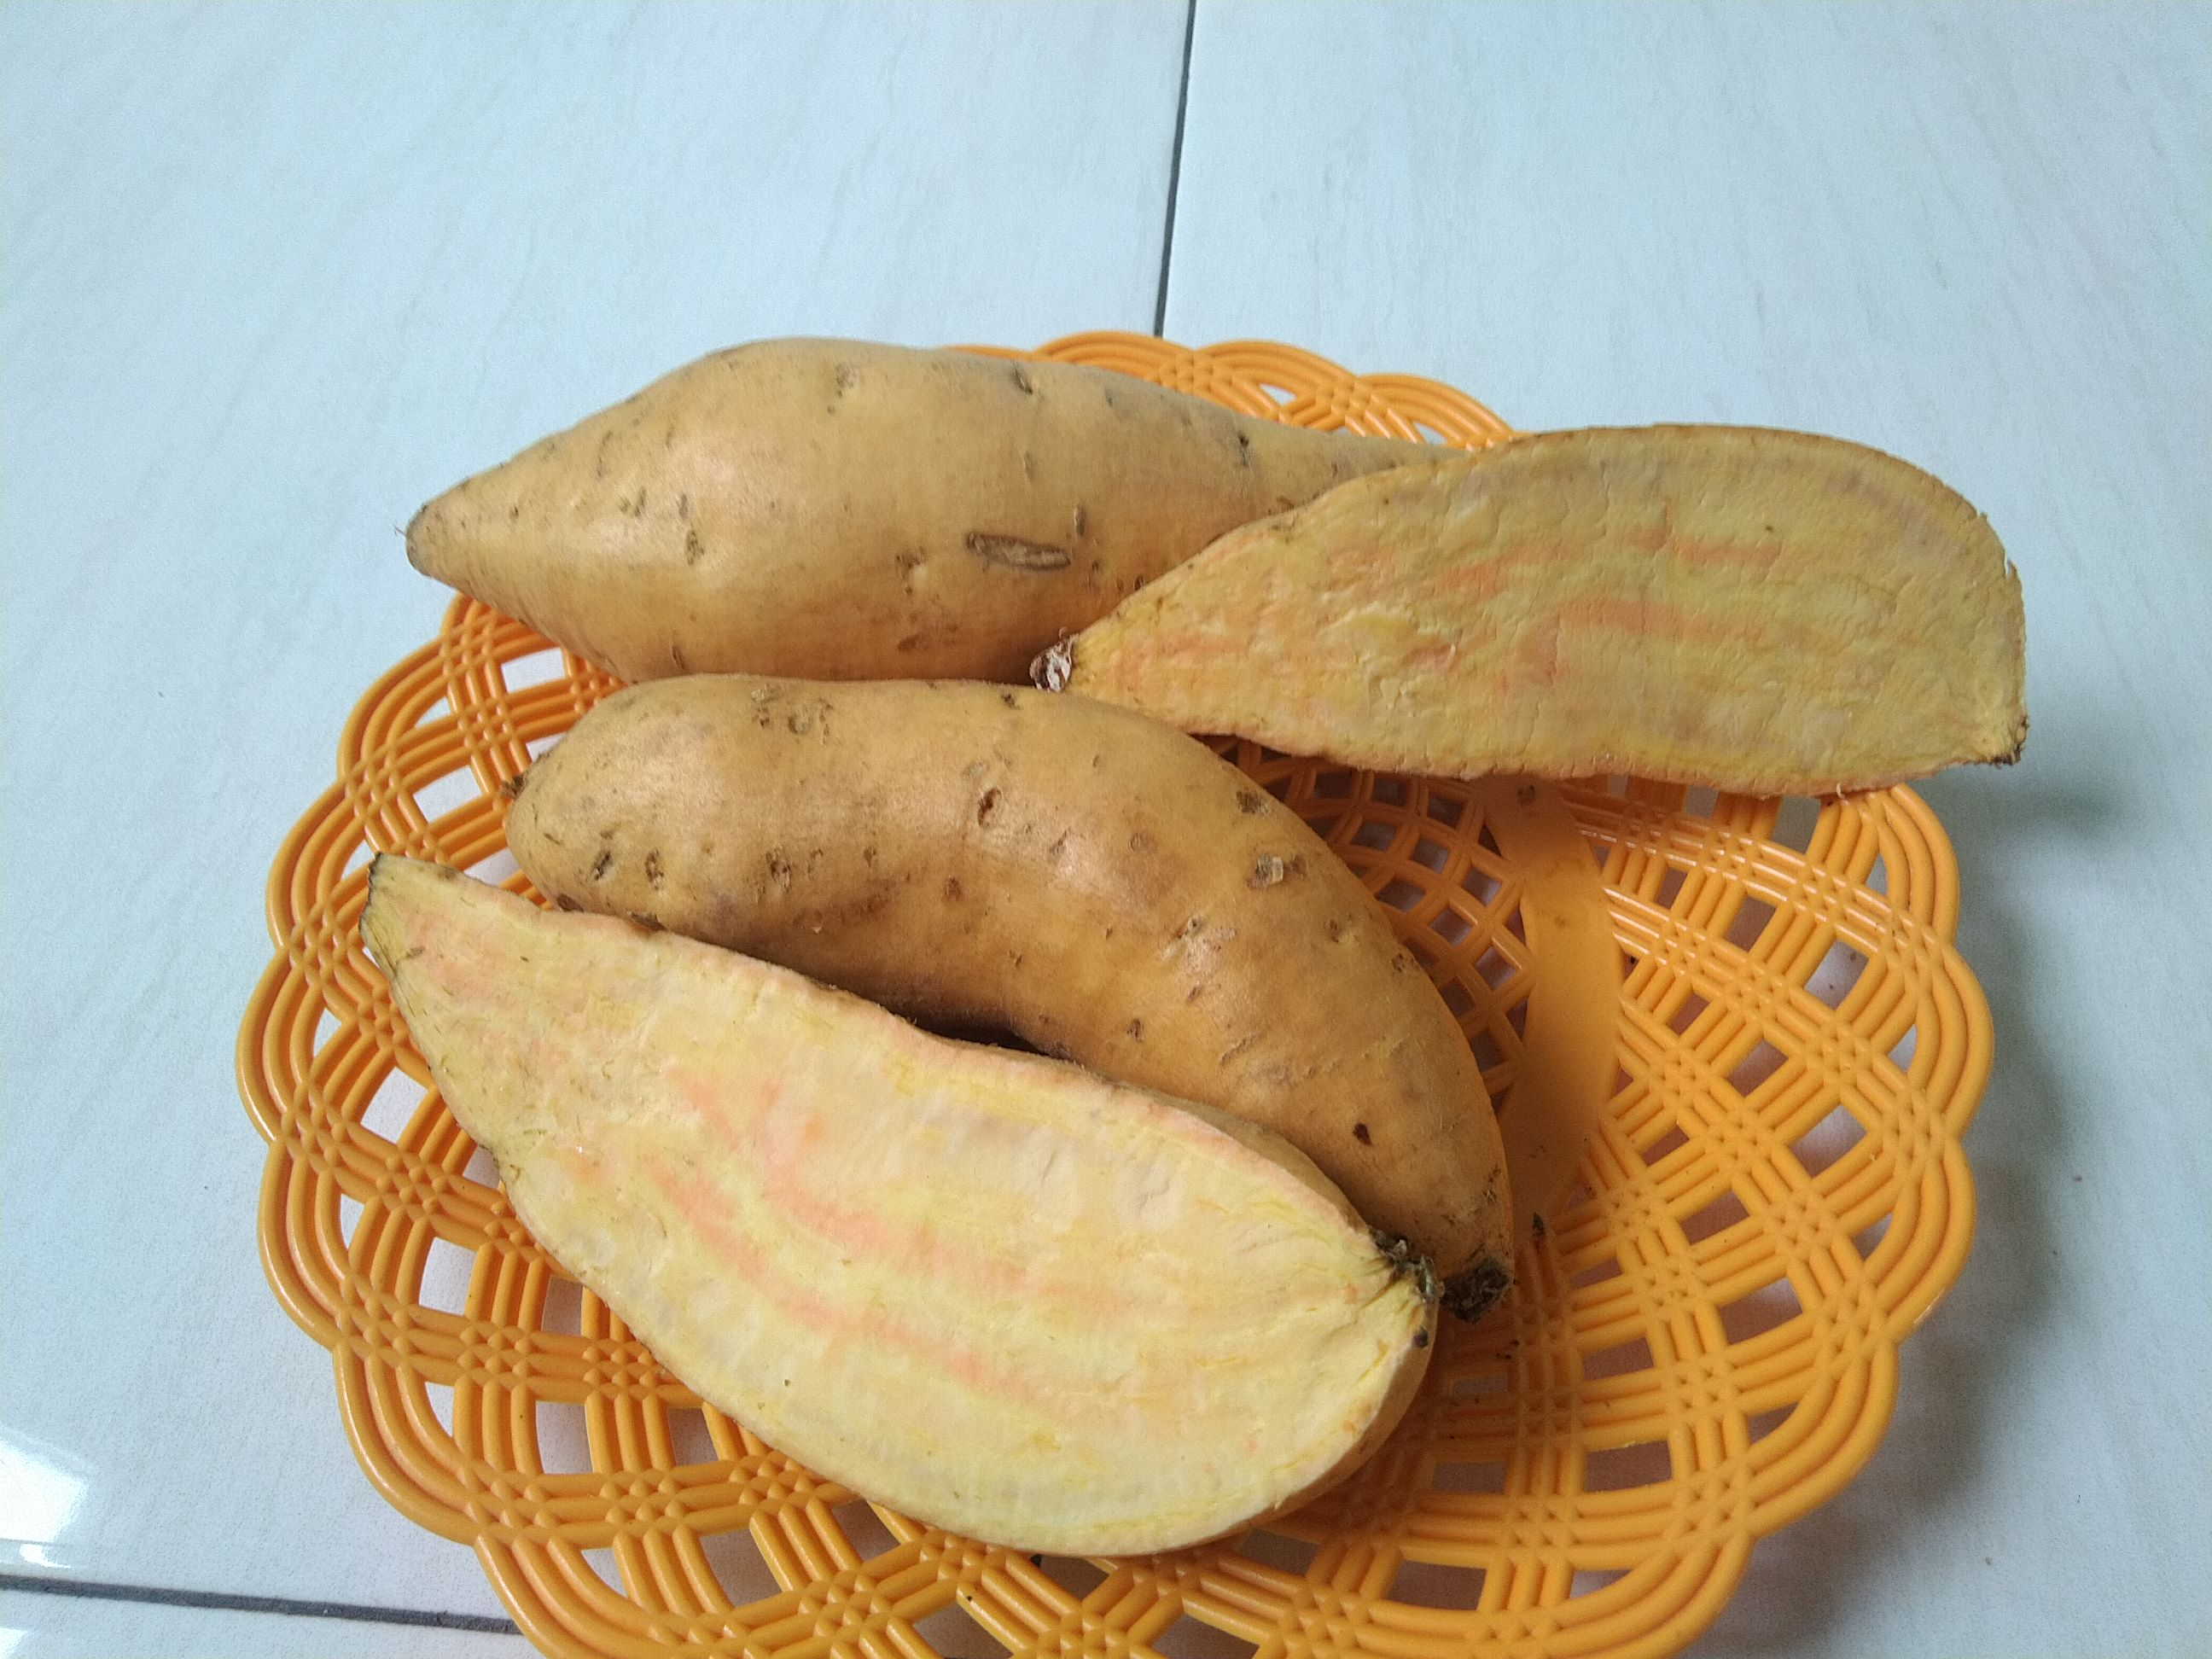ubi cilembu: (345, 840, 1463, 1588), (489, 671, 1540, 1340), (1019, 403, 2074, 795), (397, 324, 1444, 690)
